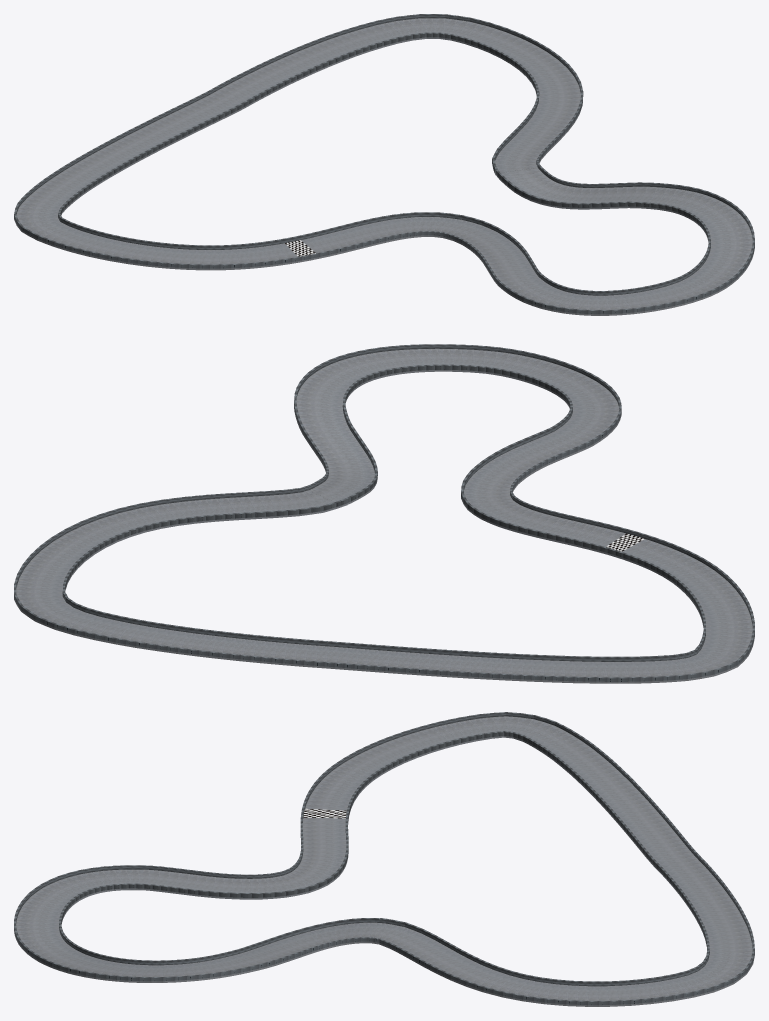
The model's file is track2final_Tfloor.obj.
3 views of the same model, one above another, from view 1: azimuth 30°, elevation 25°; view 2: azimuth 150°, elevation 25°; view 3: azimuth 270°, elevation 25° (orthographic). The views are drawn at different scales.
Parts seen in each view (by area): view 1: Circuit_Cube.001; view 2: Circuit_Cube.001; view 3: Circuit_Cube.001.
Part boxes in pixels (x1=…): Circuit_Cube.001: x1=14, y1=14, x2=754, y2=315; Circuit_Cube.001: x1=14, y1=344, x2=754, y2=683; Circuit_Cube.001: x1=14, y1=712, x2=754, y2=1006.
Size of the model in its own units: 561 by 17.28 by 606.
